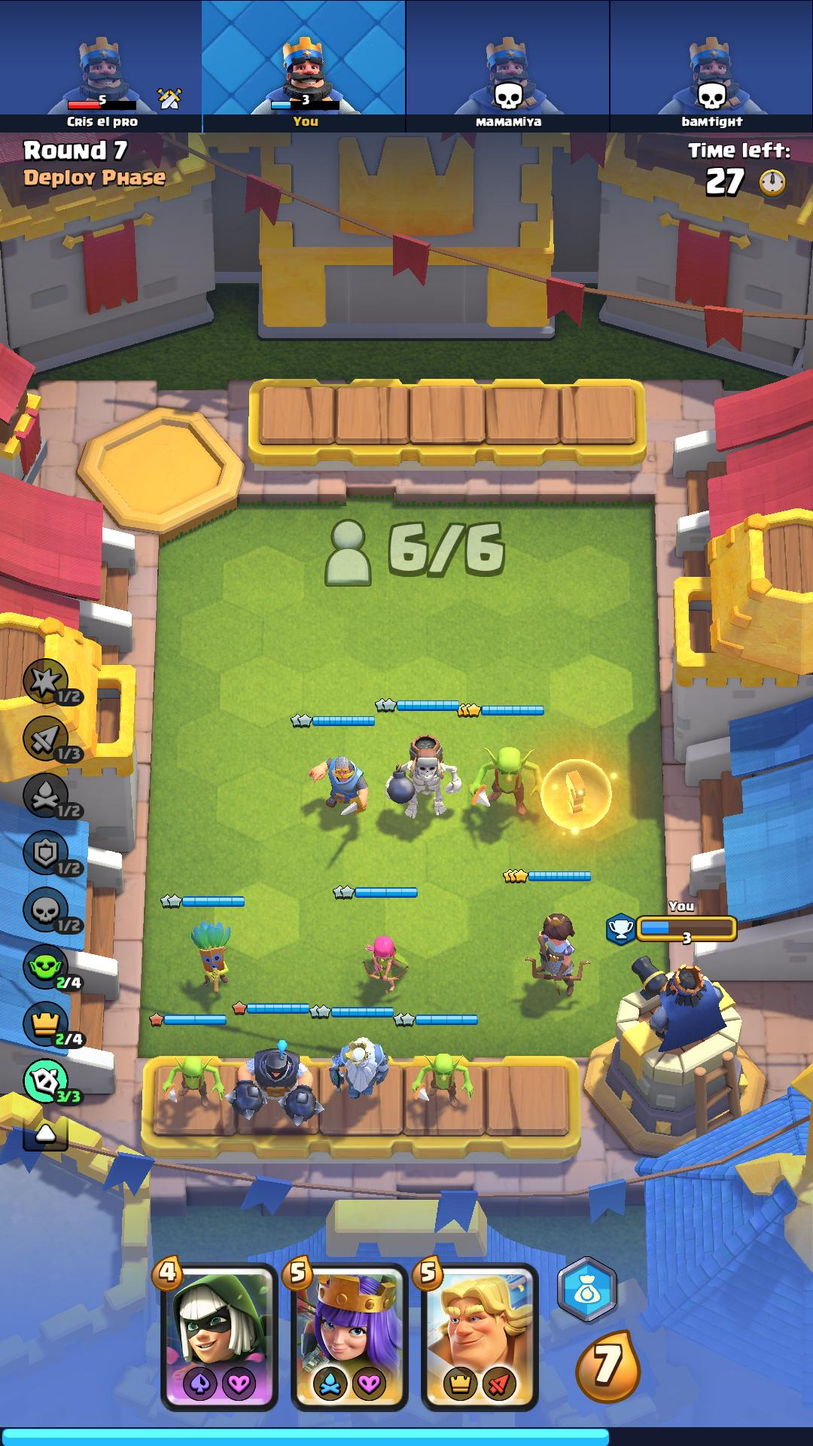archer: (355, 923, 413, 997)
dart: (184, 917, 241, 993)
giant: (384, 734, 463, 824)
goblin: (466, 745, 544, 824), (408, 1046, 477, 1107), (163, 1051, 230, 1112)
hand-bandit: (162, 1267, 274, 1407)
hand-golden: (423, 1267, 534, 1408)
hand-queen: (294, 1265, 406, 1410)
knight: (307, 752, 376, 821)
orb: (542, 756, 615, 832)
princess: (520, 907, 590, 1005)
